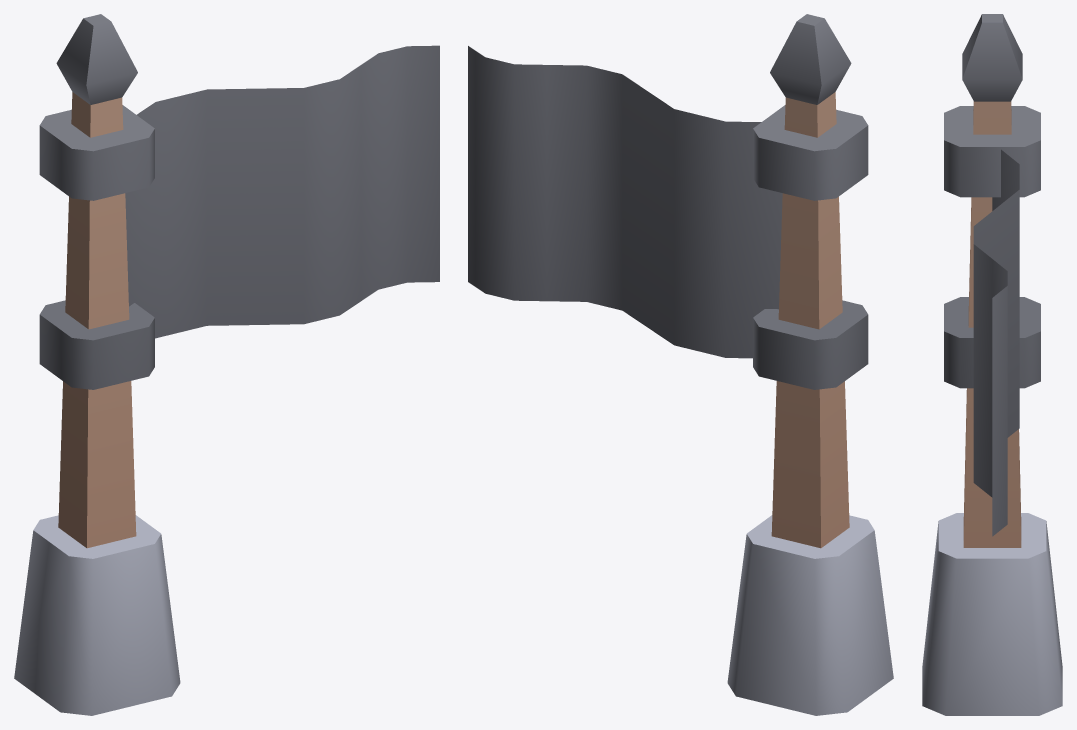
File: flag-pirate.glb
The picture shows the model from 3 angles, left to right: view 1: azimuth 30°, elevation 25°; view 2: azimuth 150°, elevation 25°; view 3: azimuth 270°, elevation 25°; orthographic projection.
Visible parts, largest first — view 1: flag-pirate; view 2: flag-pirate; view 3: flag-pirate.
Part boxes in pixels (x1,y1,x2,y2): flag-pirate: (14,14,439,715); flag-pirate: (468,14,893,715); flag-pirate: (922,14,1062,715).
Bounding box in the file's own units: 1.34 × 2.1 × 0.3989.
